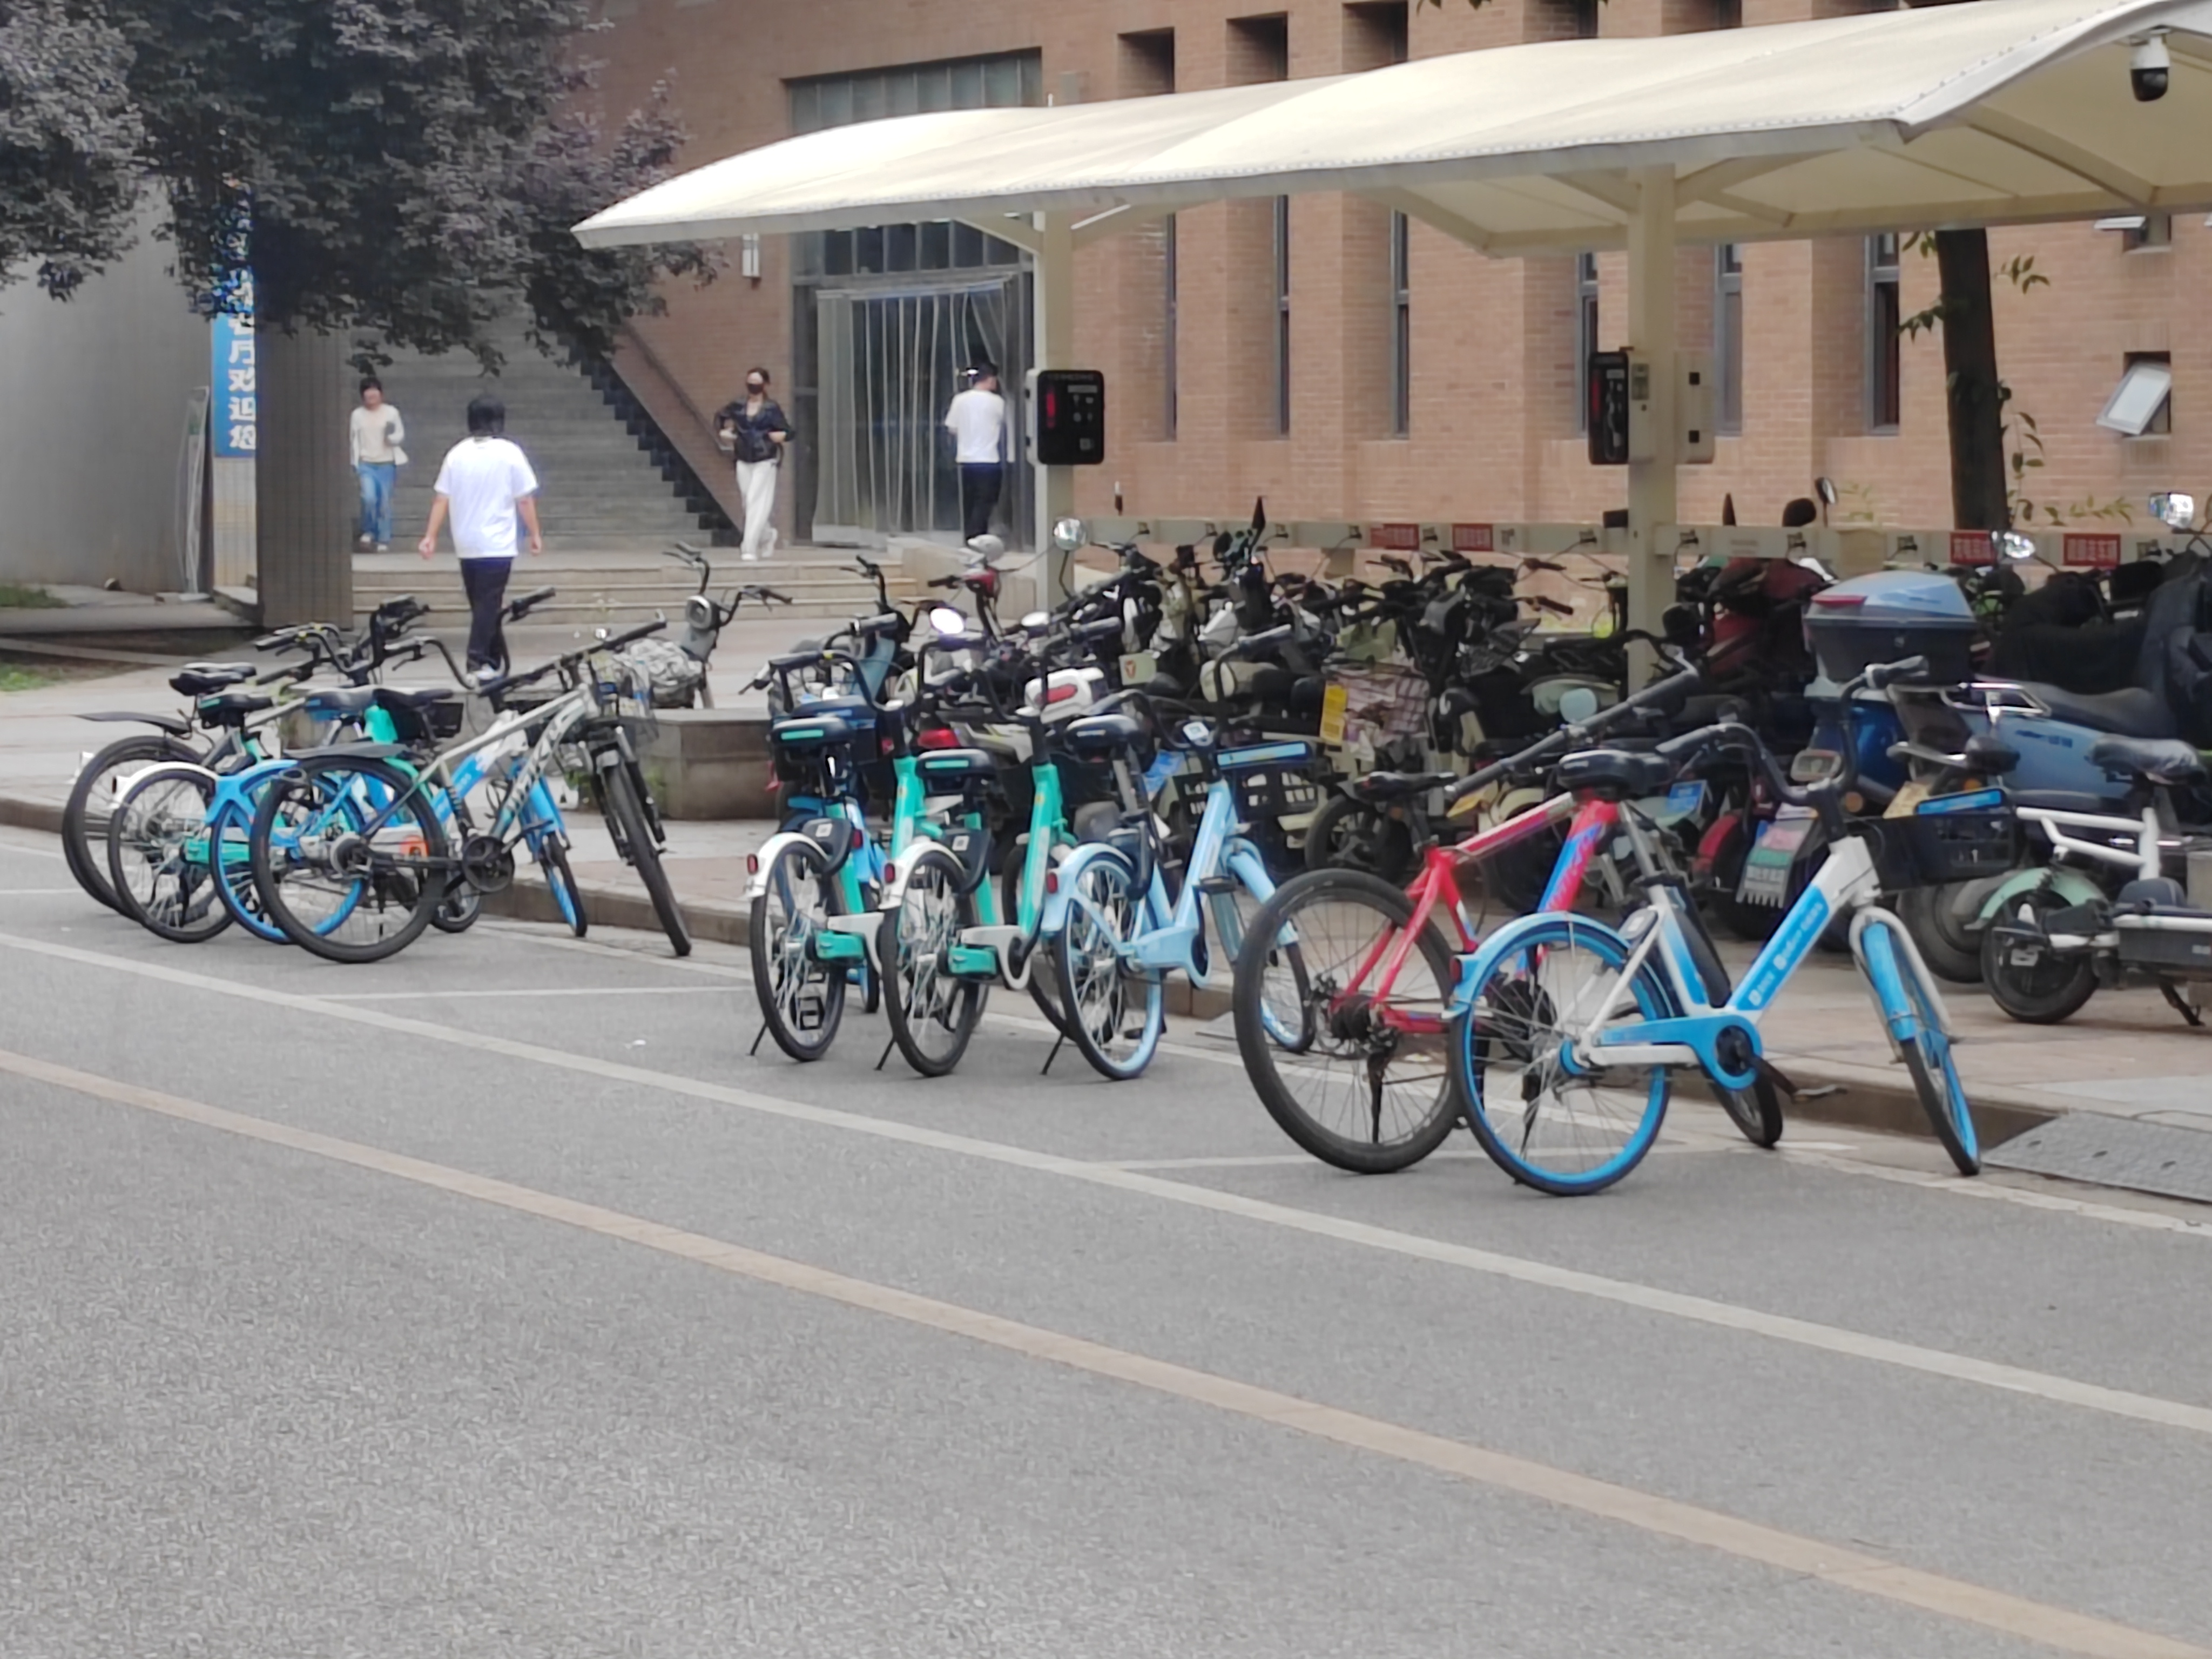others: (1251, 734, 1723, 1150), (244, 678, 691, 960), (61, 624, 374, 906)
shared_bike_haluo: (1465, 673, 1996, 1220), (1036, 579, 1315, 1063), (211, 598, 583, 950)
shared_bike_qingcong: (881, 610, 1055, 1077), (740, 634, 921, 1065)
